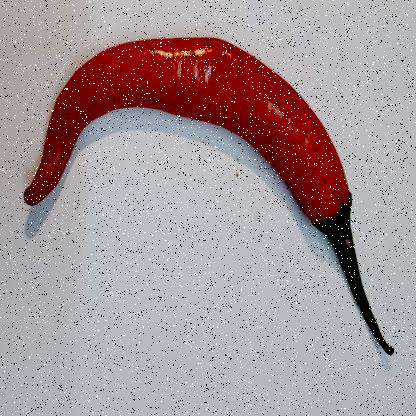chili: (22, 35, 397, 366)
